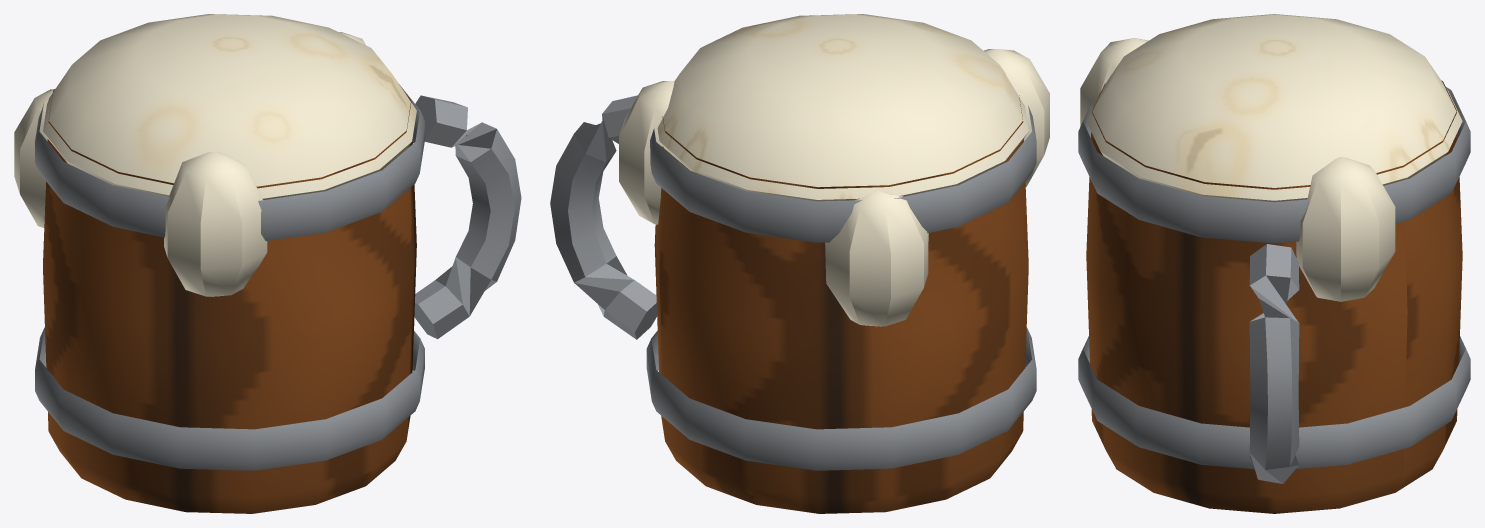
File: Decor_AleMug.fbx
The picture shows the model from 3 angles, left to right: view 1: azimuth 30°, elevation 25°; view 2: azimuth 150°, elevation 25°; view 3: azimuth 270°, elevation 25°; orthographic projection.
Visible parts, largest first — view 1: Decor_AleMug; view 2: Decor_AleMug; view 3: Decor_AleMug.
Part boxes in pixels (left/top/right/bottom): Decor_AleMug: left=14, top=14, right=521, bottom=513; Decor_AleMug: left=550, top=14, right=1049, bottom=513; Decor_AleMug: left=1078, top=14, right=1470, bottom=513.
Bounding box in the file's own units: 0.4633 × 0.3842 × 0.344.
1 material, 1 textured.
